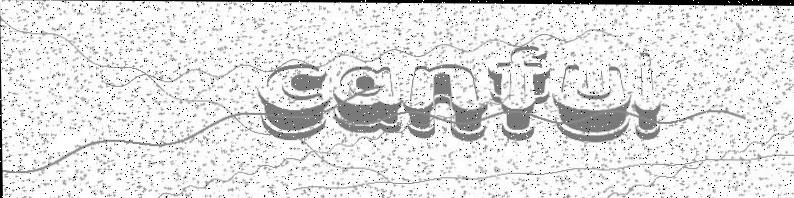a: (332, 64, 401, 132)
c: (255, 62, 329, 140)
f: (487, 42, 551, 140)
l: (633, 49, 662, 141)
n: (403, 61, 487, 142)
u: (552, 60, 632, 143)
